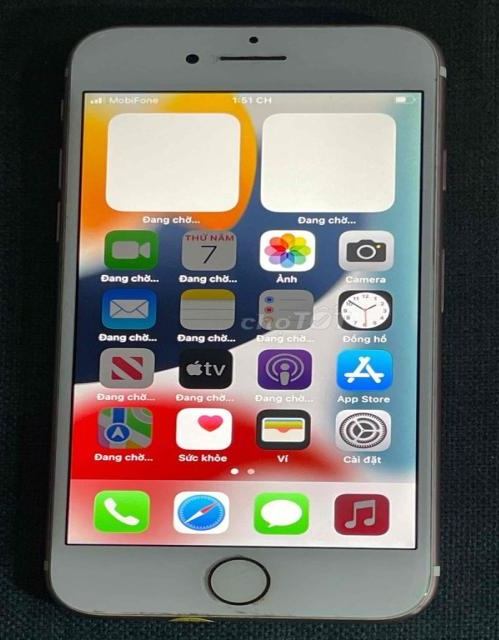scratch: (61, 591, 401, 623), (193, 543, 277, 593), (204, 49, 298, 68), (379, 24, 422, 37)
